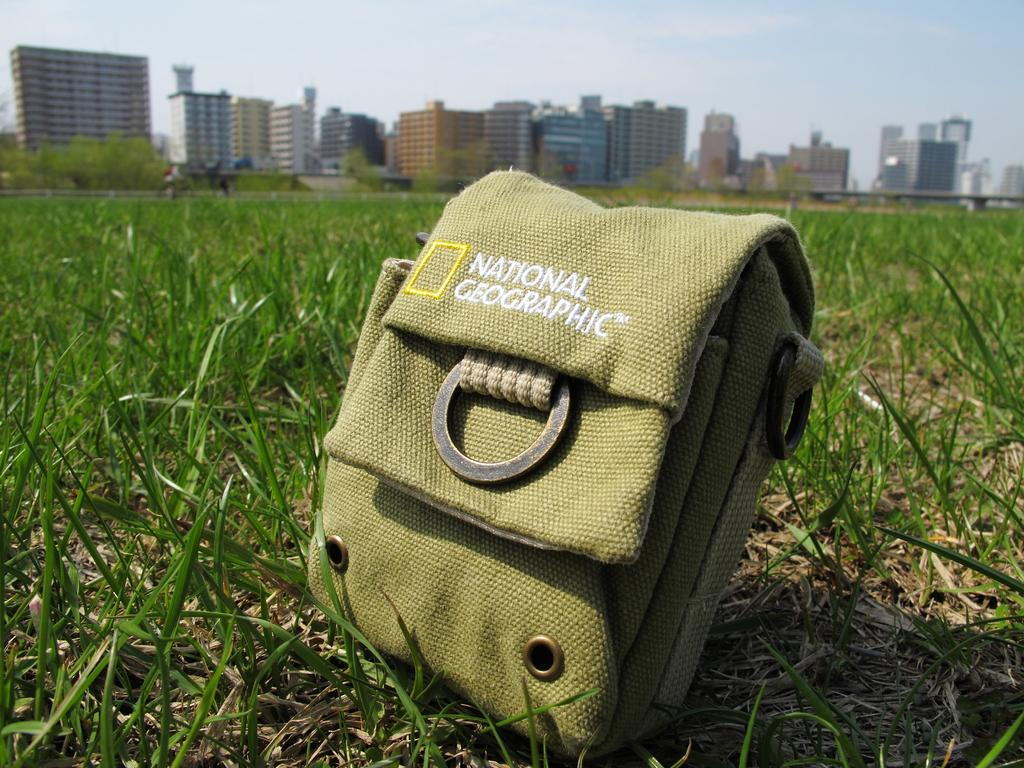Luggage-and-bags: (308, 161, 822, 760)
